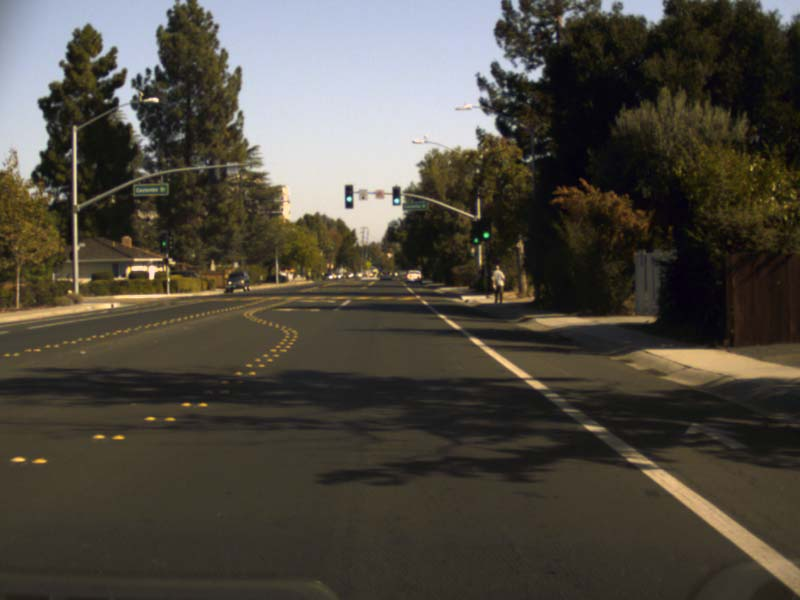Green: (480, 217, 490, 240), (472, 221, 480, 244), (345, 185, 352, 207), (392, 187, 399, 204), (160, 233, 166, 252)
